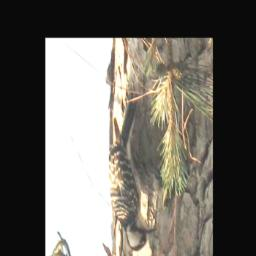Woodpecker: (108, 96, 157, 253)
